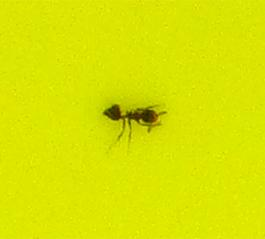Hymenoptera: (100, 100, 165, 139)
